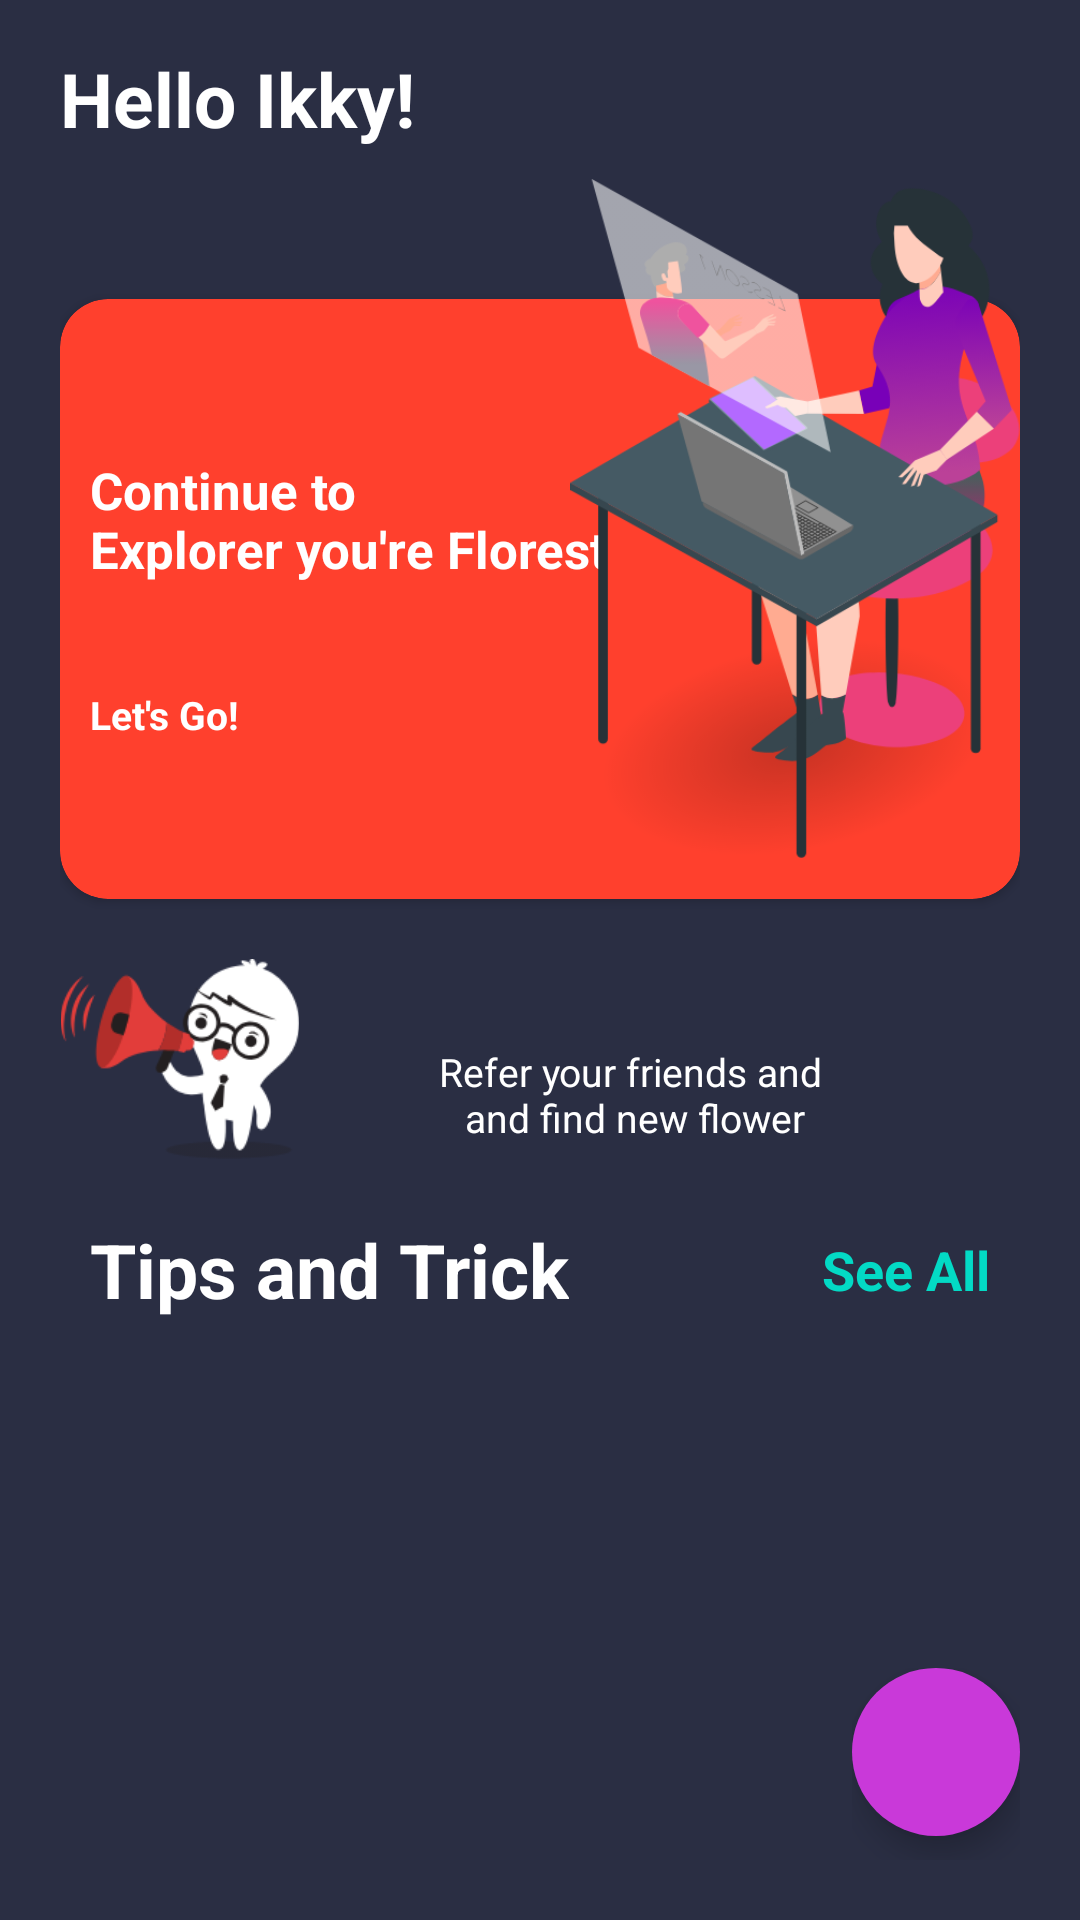

Named icons in this screenshot (1080px×1920px) and their centers, [x,y]:
icon notification: [180,1055]
